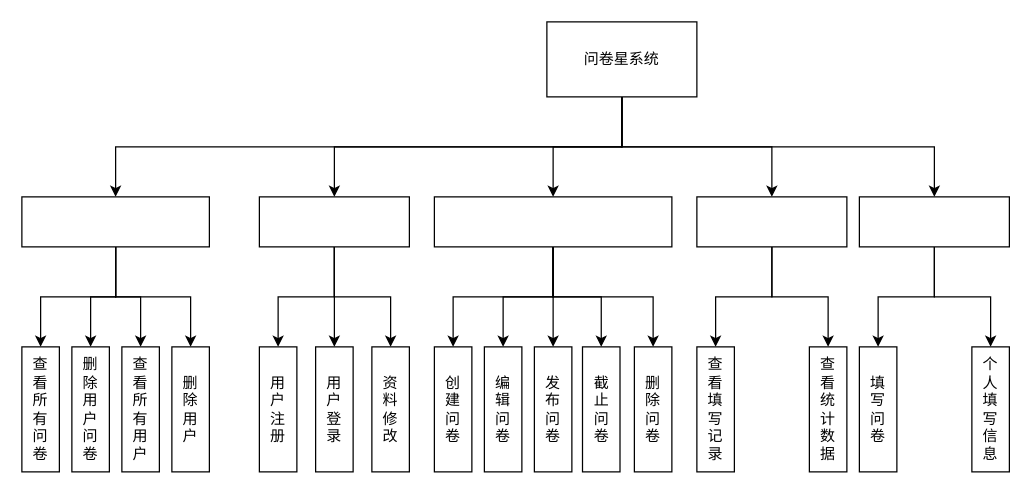
This 1031x494 diagram has some shape labels left out. The shapes that lost their labels are listed below. From the top down, each one's centre as x and y in pixels, then its label:
At pixel 115 221: "管理员模块".
At pixel 333 221: "用户模块".
At pixel 552 221: "问卷模块".
At pixel 771 221: "数据管理模块".
At pixel 933 221: "填写模块".
